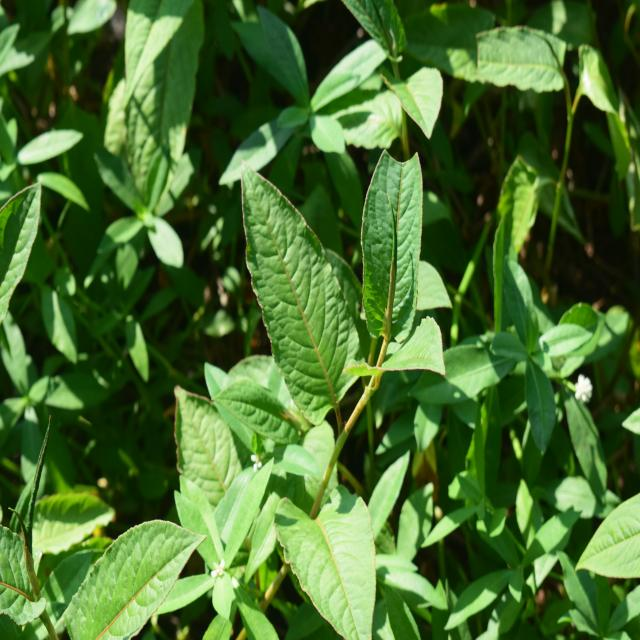Chinese_knotweed: (233, 137, 448, 608)
